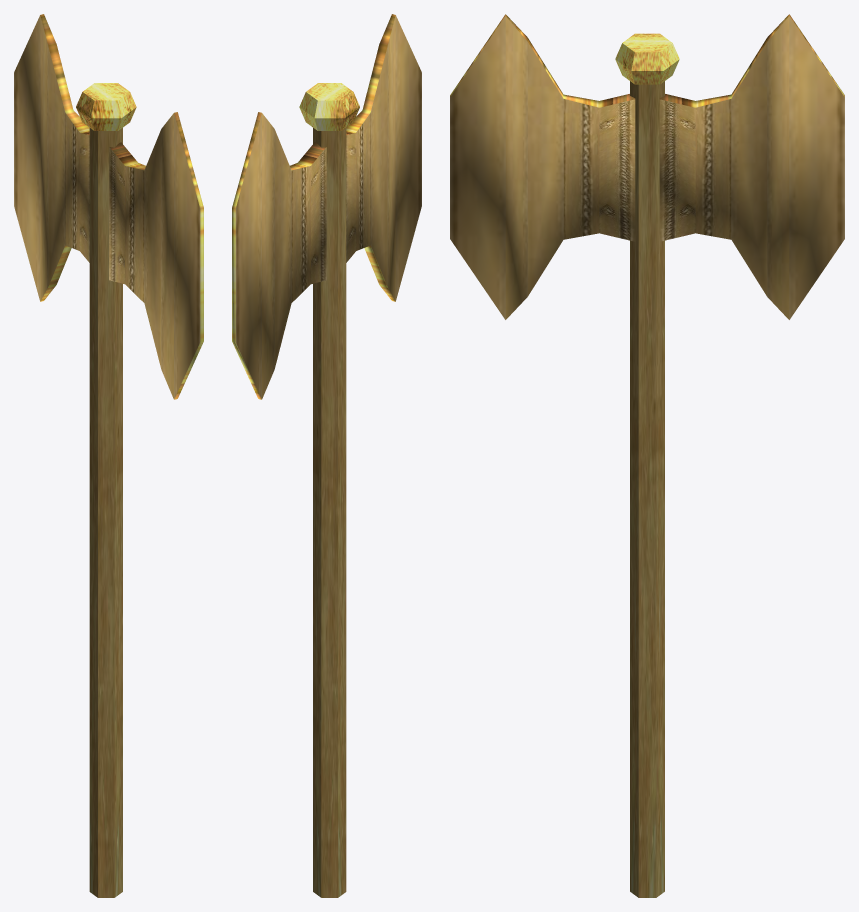
The model's file is minoan_axe_01.dae.
3 renders of one model, left to right at view 1: azimuth 30°, elevation 25°; view 2: azimuth 150°, elevation 25°; view 3: azimuth 270°, elevation 25°, orthographic. The views are drawn at different scales.
Visible parts, largest first — view 1: minoan_cerimonial_axe; view 2: minoan_cerimonial_axe; view 3: minoan_cerimonial_axe.
Boxes of the visible parts, x1,y1,x2,y2 form: minoan_cerimonial_axe: (14,14,203,897); minoan_cerimonial_axe: (232,14,421,897); minoan_cerimonial_axe: (450,14,844,897).
Size of the model in its own units: 0.1193 by 0.8422 by 2.07.
